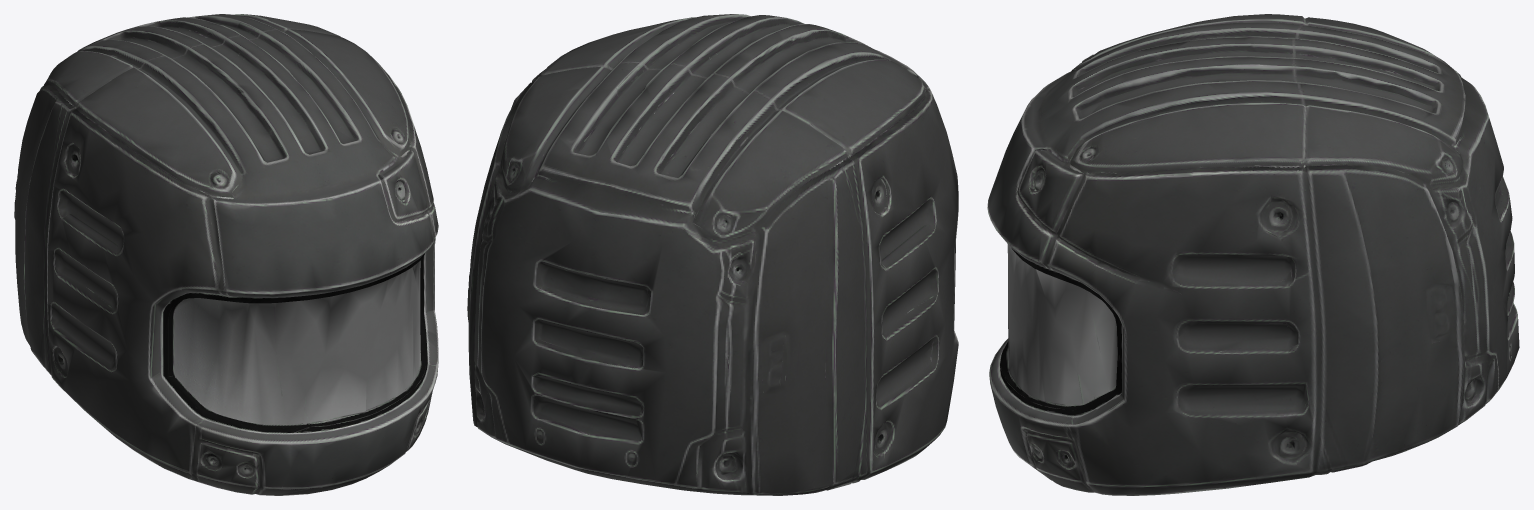
The model's file is Meshy_AI_Obsidian_Vanguard_Hel_0514030031_texture.fbx.
3 renders of one model, left to right at view 1: azimuth 30°, elevation 25°; view 2: azimuth 150°, elevation 25°; view 3: azimuth 270°, elevation 25°, orthographic. The views are drawn at different scales.
Parts seen in each view (by area): view 1: Mesh_0; view 2: Mesh_0; view 3: Mesh_0.
Part boxes in pixels (x1,y1,x2,y2): Mesh_0: (14, 14, 438, 495); Mesh_0: (467, 14, 958, 495); Mesh_0: (987, 14, 1519, 495).
Size of the model in its own units: 145 by 158 by 191.
1 material, 1 textured.
